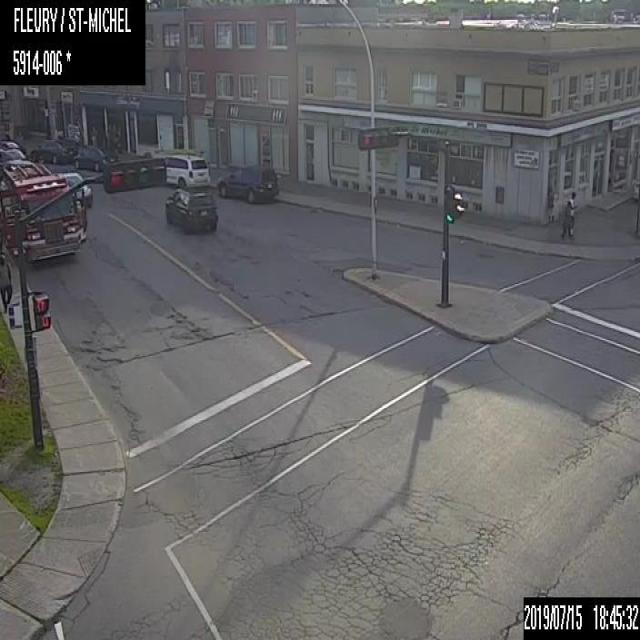pedestrian: (560, 190, 577, 238), (0, 251, 13, 312), (544, 184, 554, 224)
vehicle: (0, 157, 82, 263), (162, 186, 218, 233), (216, 164, 279, 204), (163, 150, 210, 187), (29, 138, 77, 166), (59, 172, 92, 206), (72, 145, 118, 169)
